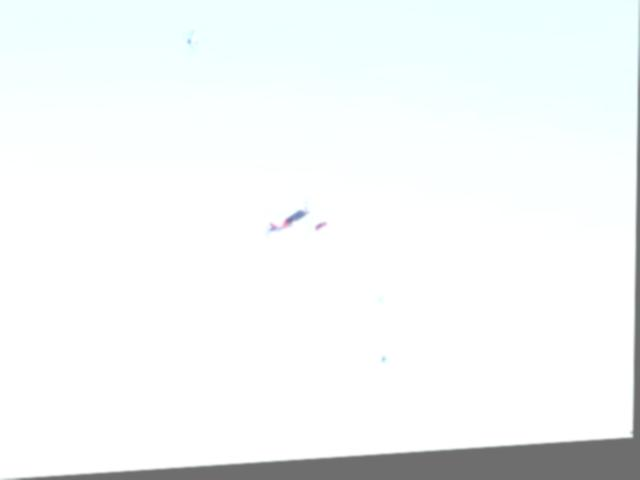uav: (258, 196, 340, 248)
